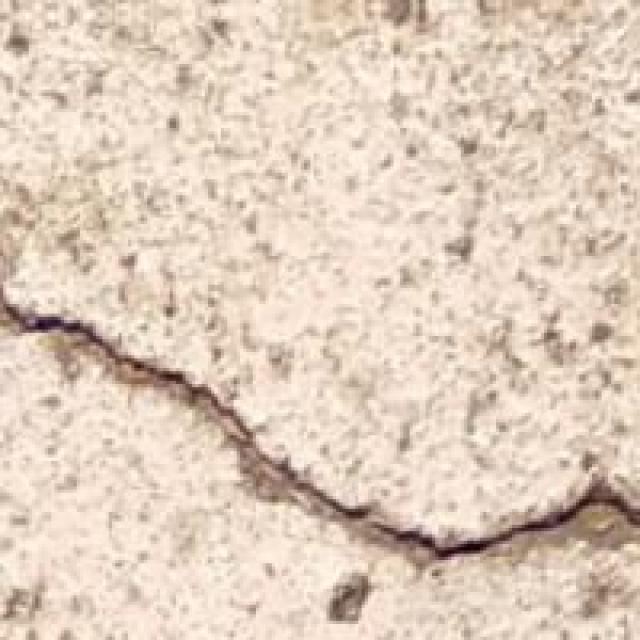crack: (3, 266, 637, 595)
